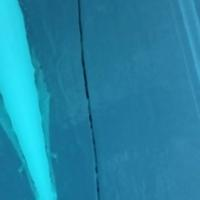crack: (58, 0, 118, 199)
